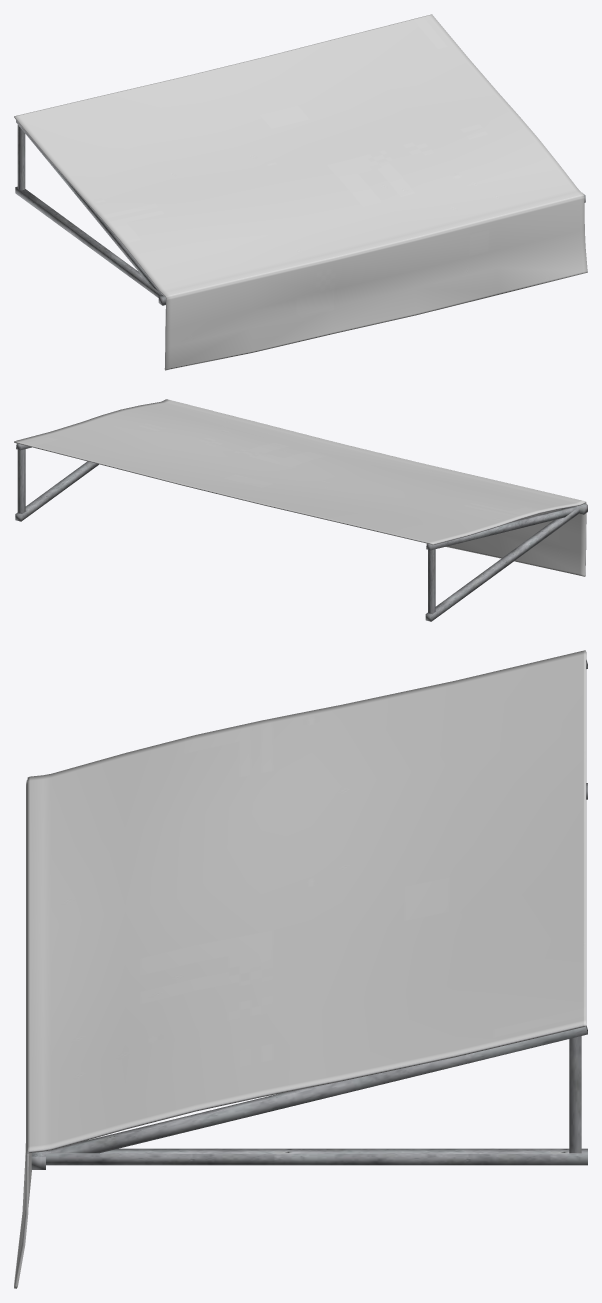
The model's file is awning_cloth.glb.
3 renders of one model, top to bottom at view 1: azimuth 30°, elevation 25°; view 2: azimuth 150°, elevation 25°; view 3: azimuth 270°, elevation 25°, orthographic. The views are drawn at different scales.
Parts seen in each view (by area): view 1: Awning_Awning_0; view 2: Awning_Awning_0; view 3: Awning_Awning_0.
Part boxes in pixels (left/top/right/bottom): Awning_Awning_0: left=14, top=14, right=587, bottom=370; Awning_Awning_0: left=14, top=399, right=587, bottom=621; Awning_Awning_0: left=14, top=650, right=587, bottom=1288.
Bounding box in the file's own units: 1 × 0.3346 × 0.6406.
Materials: 1 (1 with a texture image).
